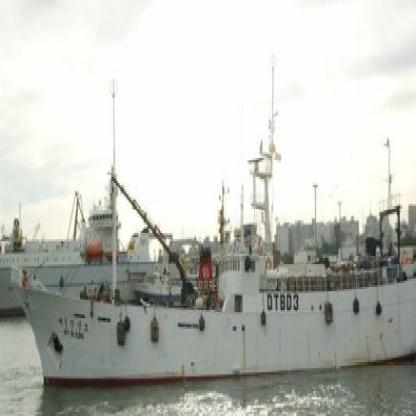fish-b: (10, 141, 415, 404)
